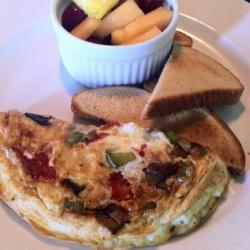bread: (77, 54, 245, 171)
omelette: (1, 111, 226, 245)
